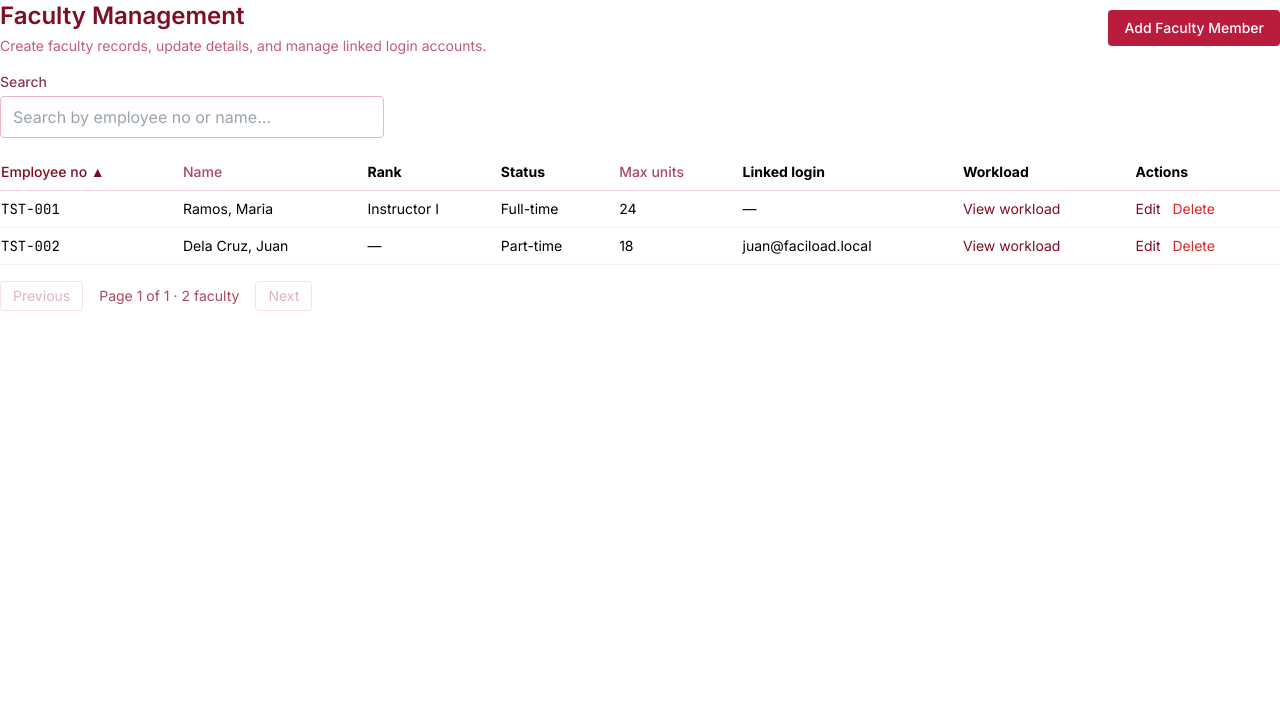
Scenario: FacultyManagementPage — delete › requires an explicit checkbox confirmation before deleting a faculty member with an active login
What coordinates should you click on to do the following:
click the button "Delete" in the row of "TST-002"
I would click on:
 (1194, 246)
Its box is [1172,236,1215,256].
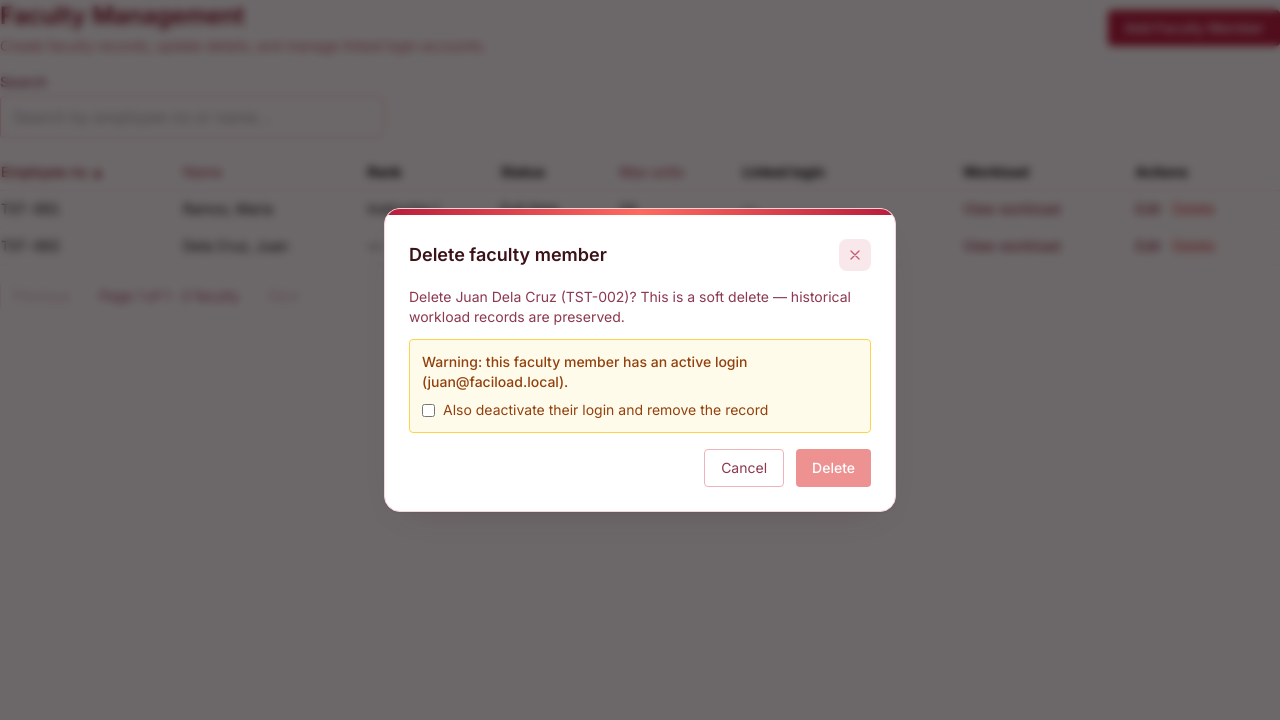
Check: the dialog shows "Warning: this faculty member has an active login (juan@faciload.local).", box [384,208,896,512]
Check: the button "Delete" is disabled, box [796,449,871,487]
What coordinates should you click on to do the following:
click the checkbox
I would click on:
 (428, 410)
Its box is [422,404,435,417].
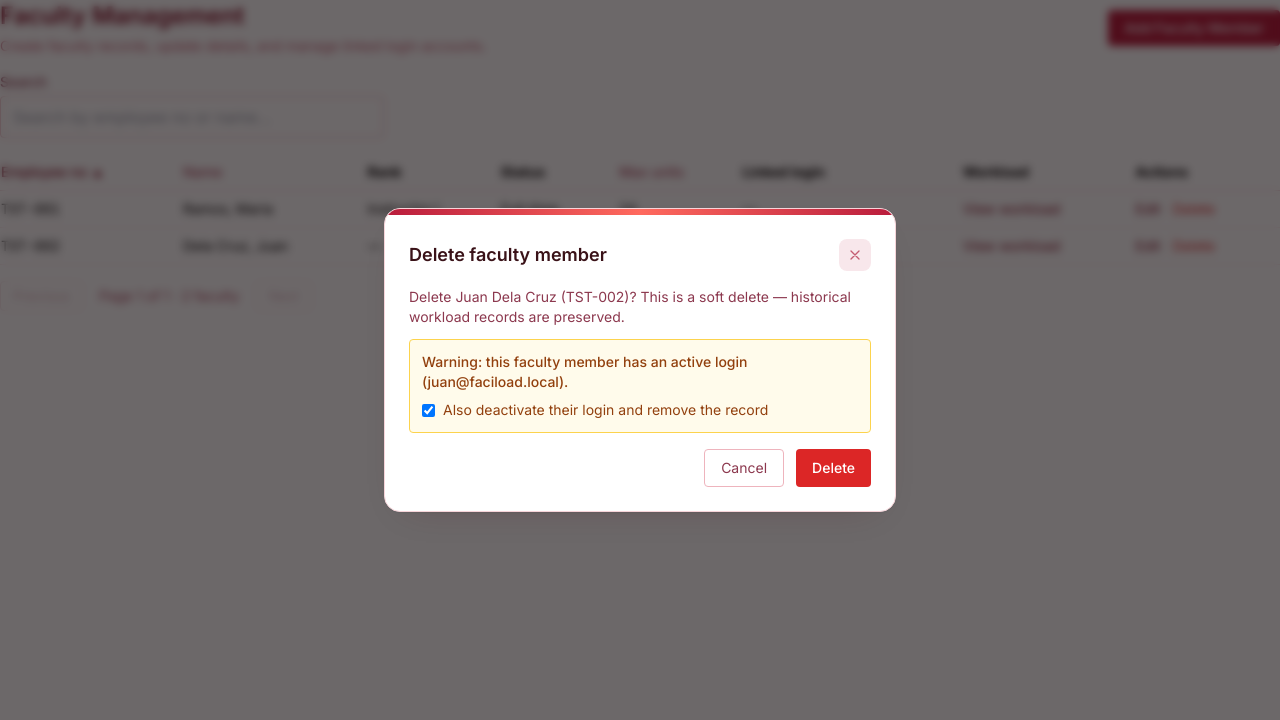
Check: the button "Delete" is enabled
What coordinates should you click on to do the following:
click the button "Delete"
I would click on:
 (834, 468)
Its box is [796,449,871,487].
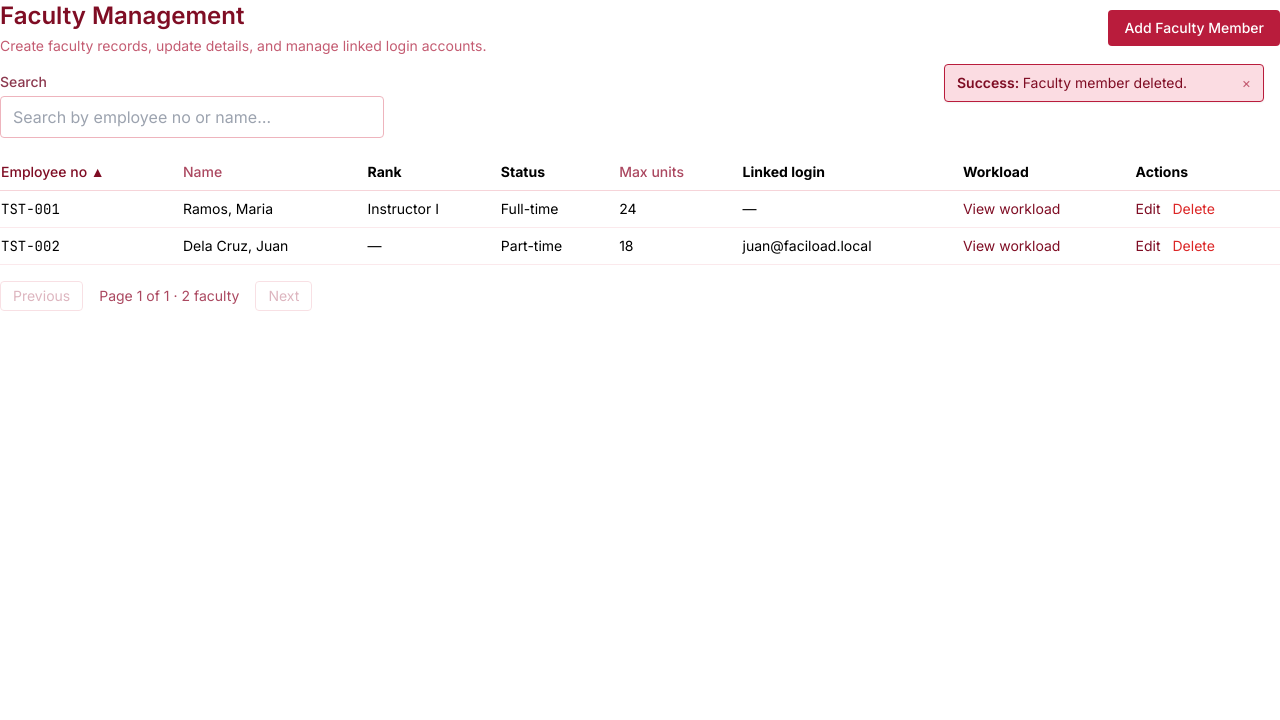
Check: the text "Success: Faculty member deleted." is shown, box [957,73,1187,93]
